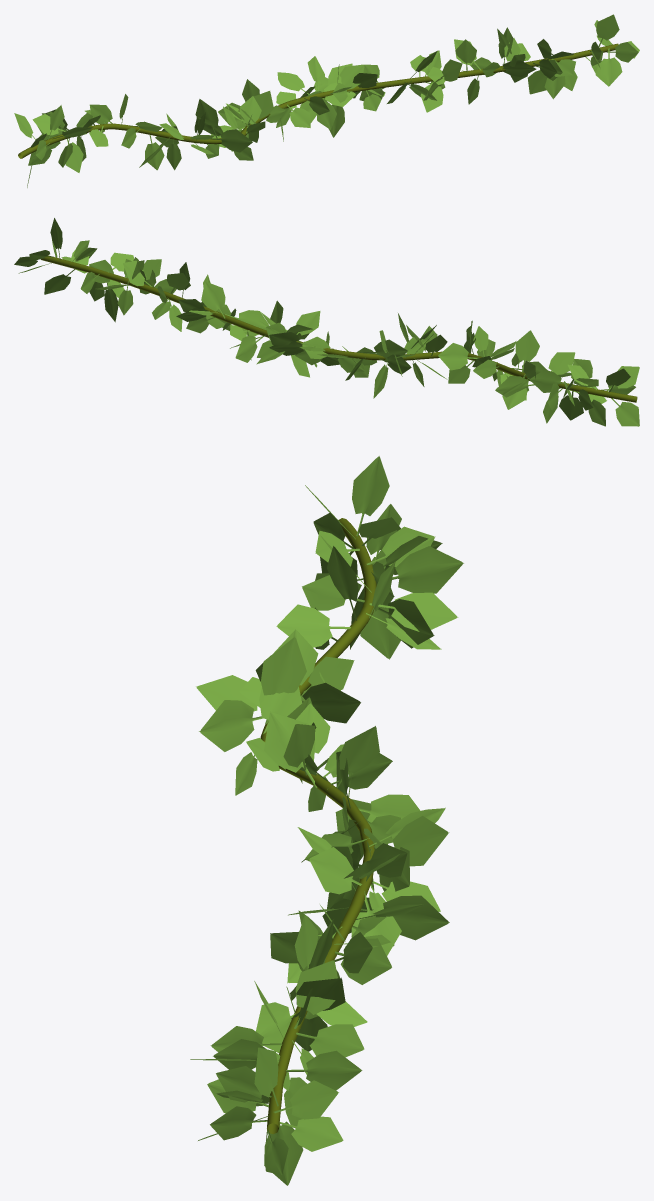
Rendered from LierreBeau.glb.
The picture shows the model from 3 angles, top to bottom: view 1: azimuth 30°, elevation 25°; view 2: azimuth 150°, elevation 25°; view 3: azimuth 270°, elevation 25°; orthographic projection. The views are drawn at different scales.
Visible parts, largest first — view 1: BezierCurve; view 2: BezierCurve; view 3: BezierCurve.
Part boxes in pixels (x1,y1,x2,y2): BezierCurve: (14, 14, 639, 187); BezierCurve: (14, 218, 639, 426); BezierCurve: (190, 456, 463, 1185).
Size of the model in its own units: 3.19 by 0.484 by 0.6278.
